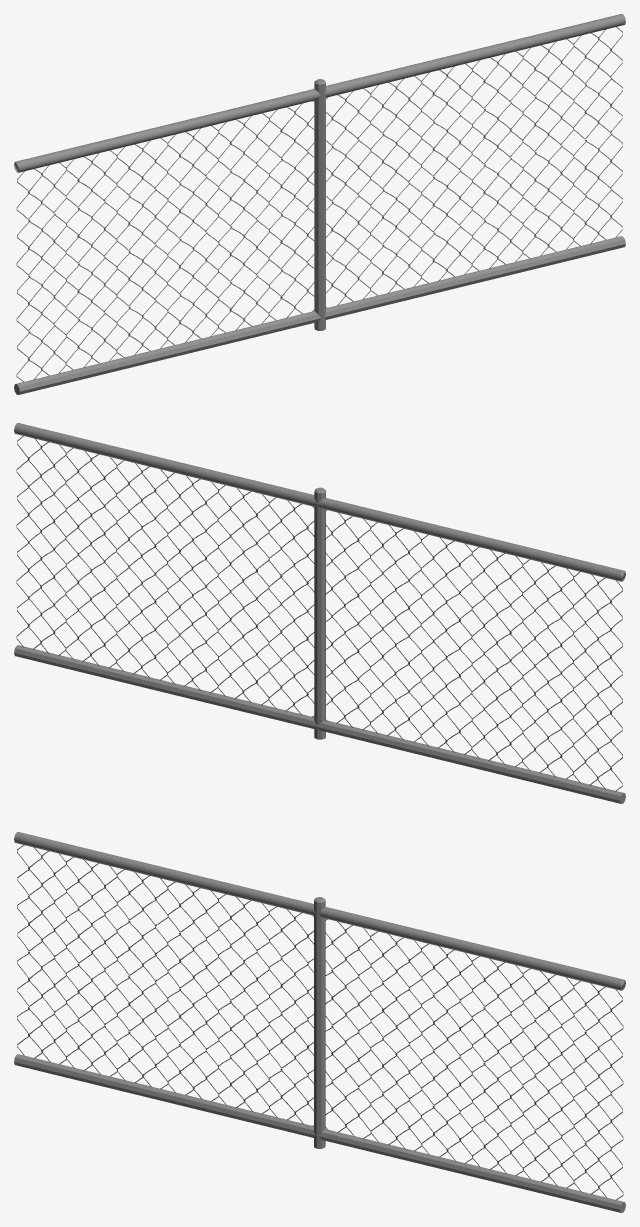
File: obj_wall_stainfence.fbx
3 views of the same model, one above another, from view 1: azimuth 30°, elevation 25°; view 2: azimuth 150°, elevation 25°; view 3: azimuth 330°, elevation 25° (orthographic).
Visible parts, largest first — view 1: obj_wall_stainfence; view 2: obj_wall_stainfence; view 3: obj_wall_stainfence.
Part boxes in pixels (x1=…): obj_wall_stainfence: x1=14, y1=14, x2=625, y2=394; obj_wall_stainfence: x1=14, y1=423, x2=625, y2=803; obj_wall_stainfence: x1=14, y1=832, x2=625, y2=1212.
Bounding box in the file's own units: 9.43 × 3.69 × 0.1676.
Materials: 1 (1 with a texture image).
